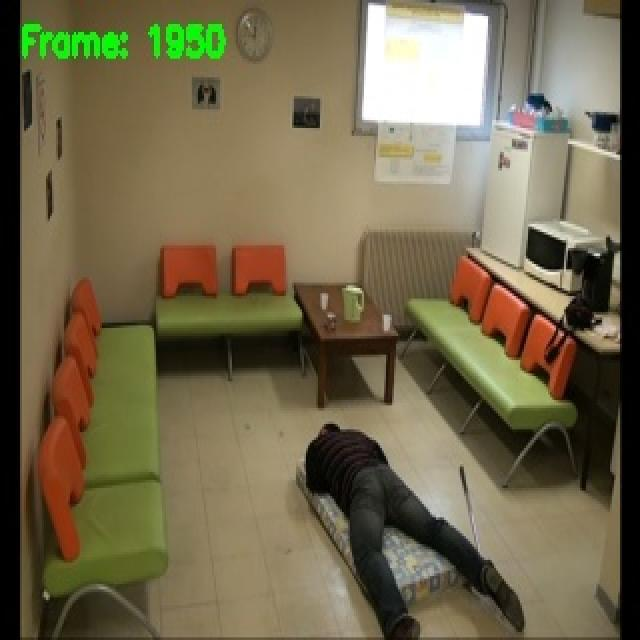fall: (302, 425, 525, 639)
